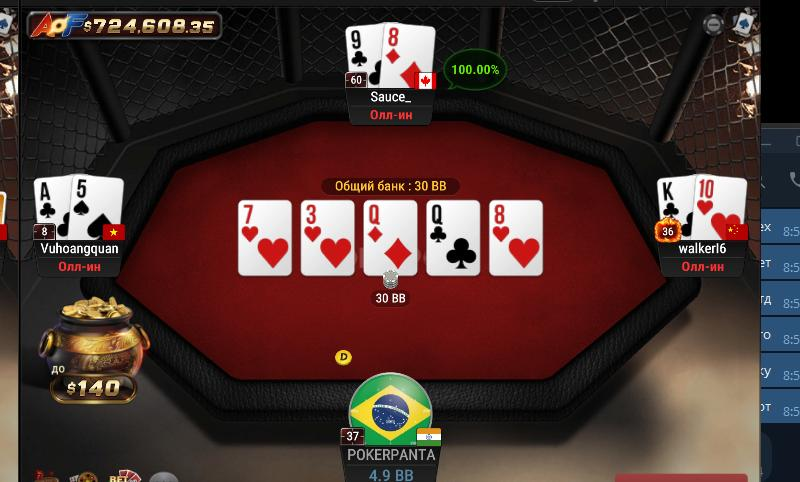10h: (695, 173, 745, 237)
3h: (302, 202, 353, 275)
5s: (71, 175, 124, 241)
7h: (238, 200, 293, 273)
8d: (383, 21, 436, 89)
8h: (491, 201, 541, 275)
9c: (346, 23, 383, 86)
Ac: (33, 176, 71, 242)
Kc: (656, 175, 694, 238)
Qc: (428, 201, 480, 275)
Qd: (363, 202, 417, 273)
